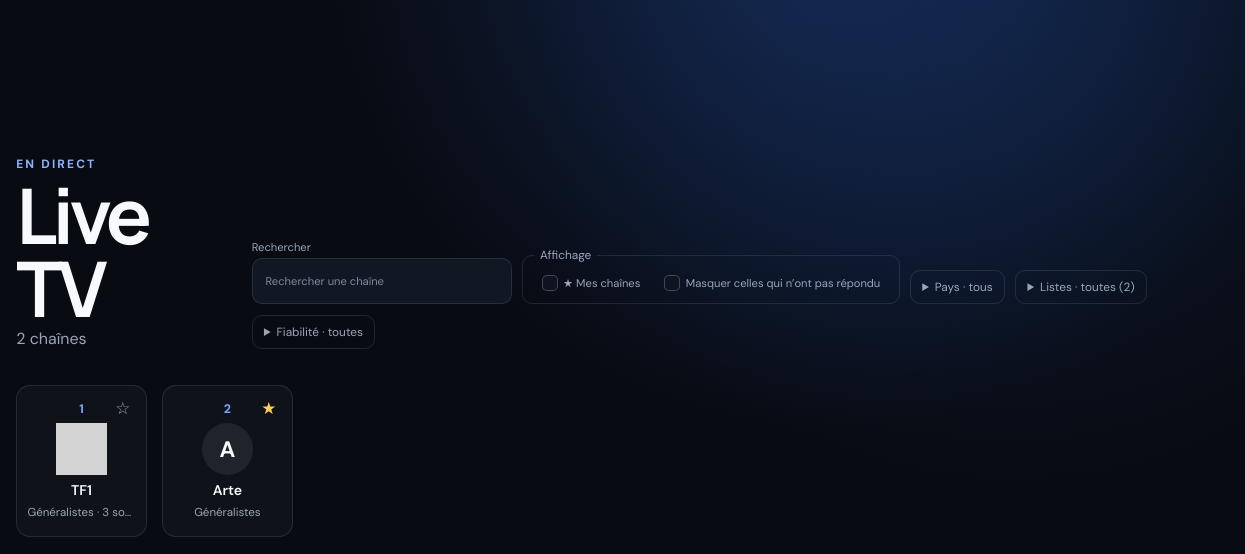
Test: la grille des chaînes › garde une chaîne d'un clic, et repeint l'étoile sans attendre le serveur
Click the button named "Garder TF1": point(123, 409) [101,387,145,431]
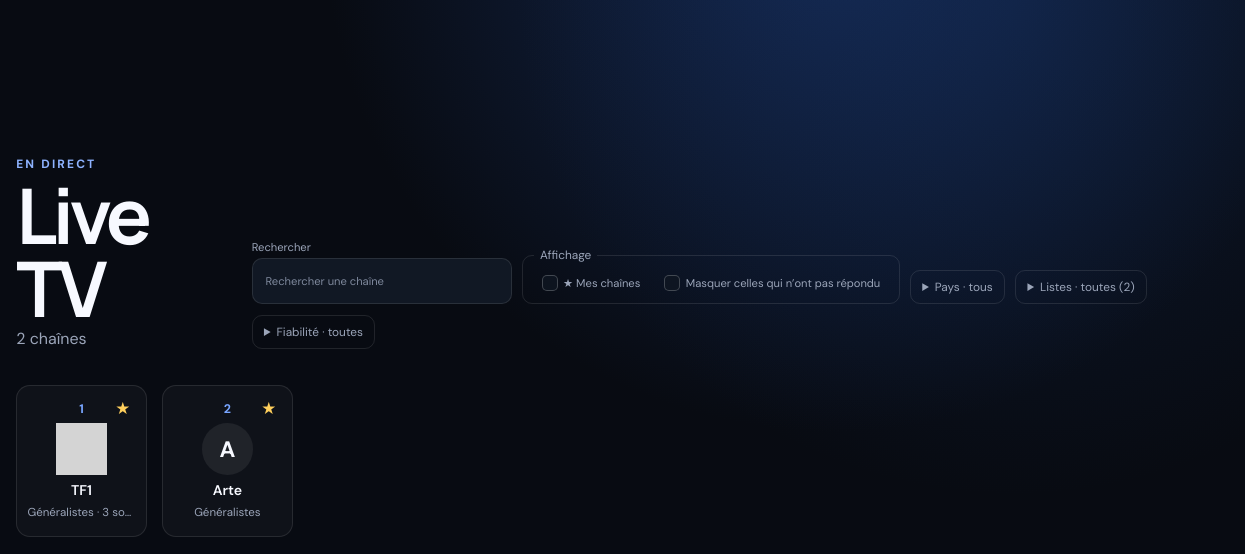
Check: the button named "Retirer TF1 de mes chaînes" is shown, box [101,387,145,431]
